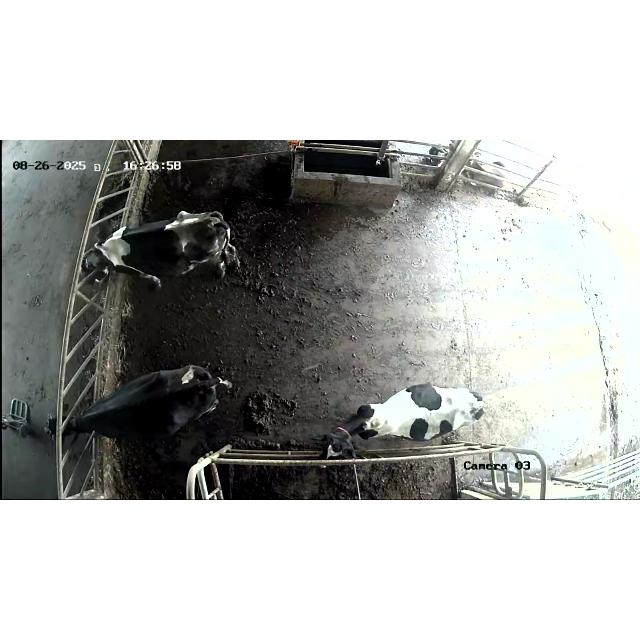eat: (49, 223, 158, 297), (30, 385, 118, 455)
stand: (305, 361, 501, 475)
